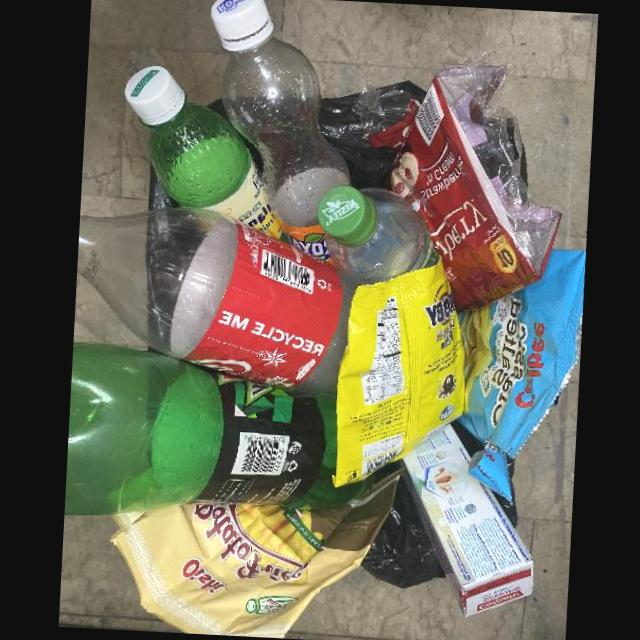bao_bi_thuc_pham: (354, 62, 562, 313), (111, 470, 403, 639), (458, 248, 586, 503), (332, 258, 465, 487)
carton: (396, 423, 534, 617)
chai_nhua: (64, 343, 377, 515), (124, 65, 292, 244)
chai_nhua_pet: (77, 206, 354, 395), (211, 0, 352, 261), (317, 185, 435, 285)
